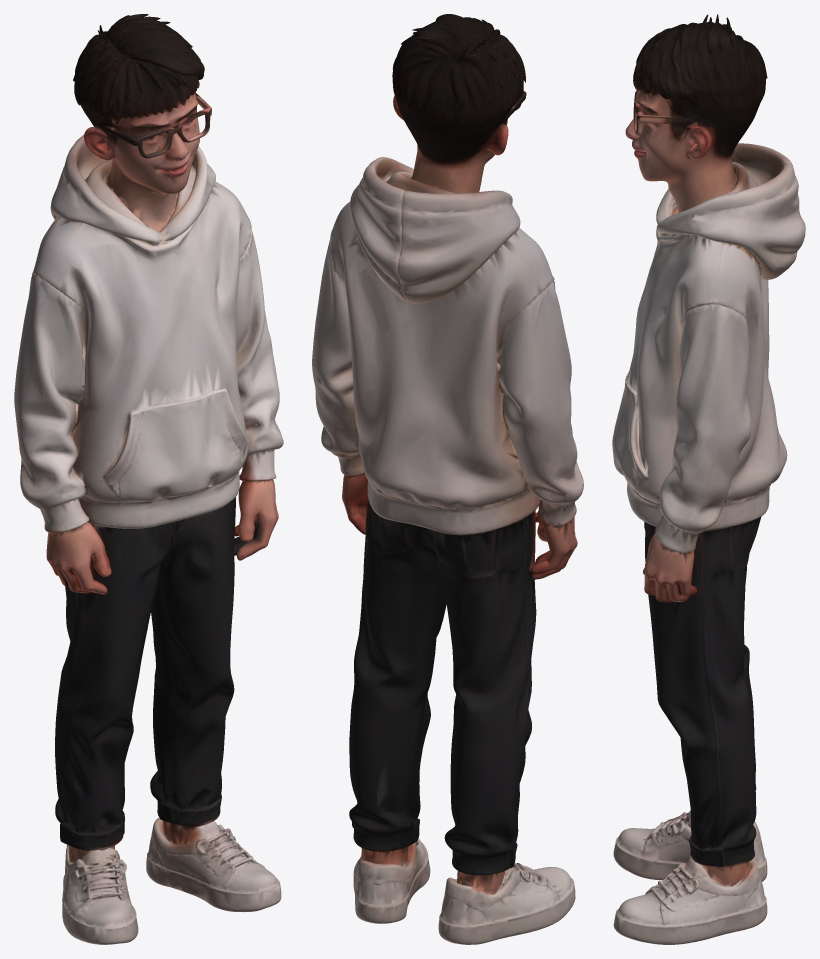
File: mood-01.glb
3 renders of one model, left to right at view 1: azimuth 30°, elevation 25°; view 2: azimuth 150°, elevation 25°; view 3: azimuth 270°, elevation 25°, orthographic. The views are drawn at different scales.
Parts seen in each view (by area): view 1: node_0; view 2: node_0; view 3: node_0.
Part boxes in pixels (left/top/right/bottom): node_0: left=14, top=14, right=283, bottom=944; node_0: left=312, top=14, right=583, bottom=944; node_0: left=612, top=14, right=805, bottom=944.
Bounding box in the file's own units: 0.3517 × 1.17 × 0.2354.
1 material, 1 textured.
